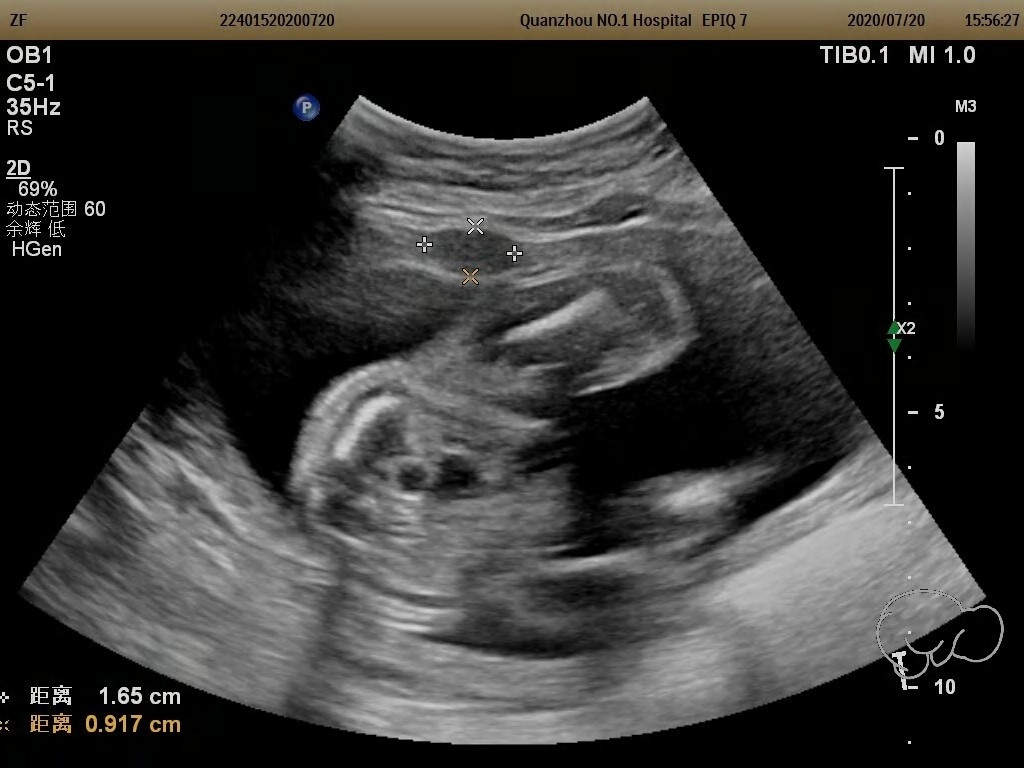肌瘤: (423, 229, 515, 274)
